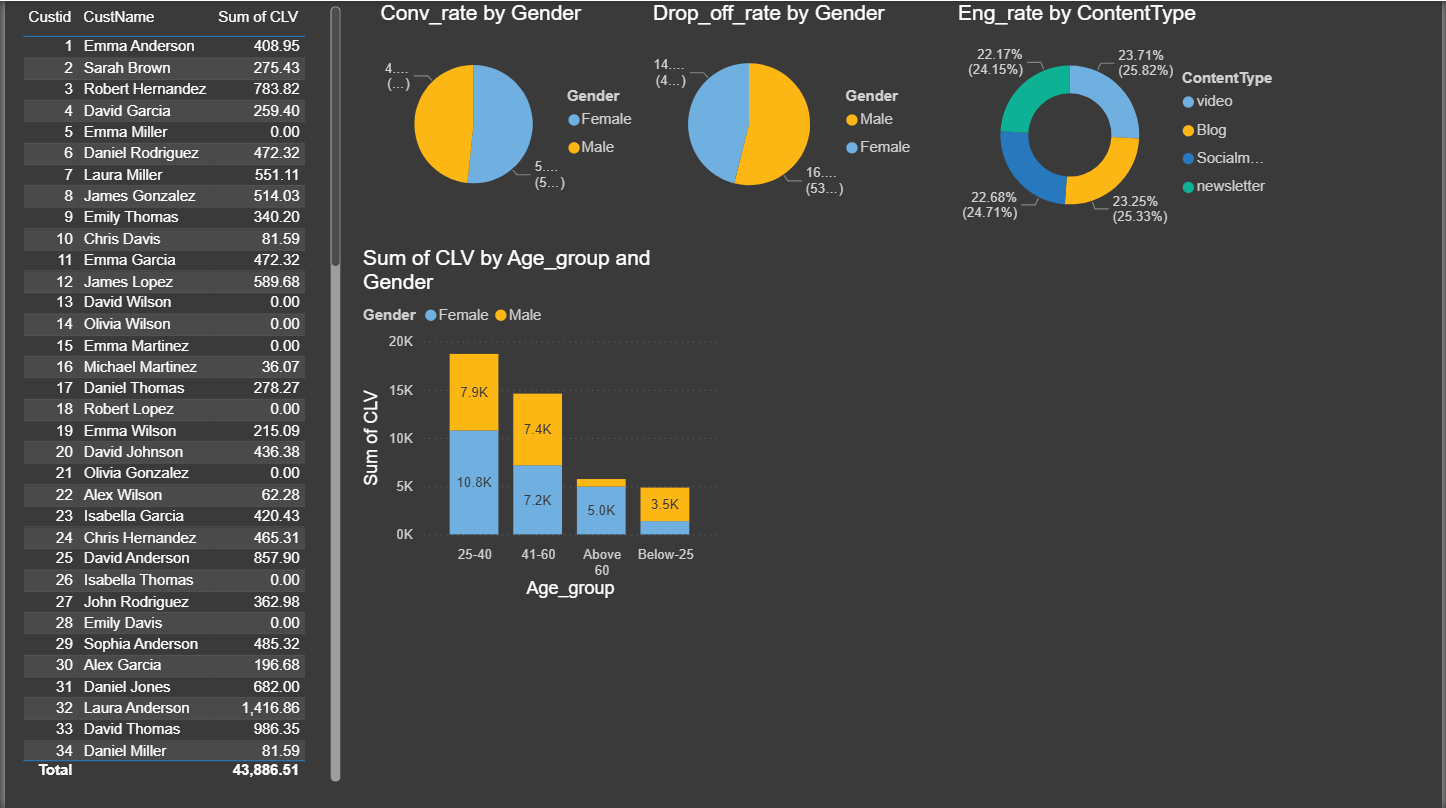

Layout of this report page (visuals, bound fields, positions):
{"tool":"powerbi","page":{"name":"Page 2","canvas":[1280,720],"ordinal":1},"visuals":[{"type":"tableEx","fields":{"Values":["Customers.Custid","Customers.CustName","Sum(Customers.CLV)"]},"box":[9.6,0,293.7,699.8],"z":0},{"type":"pieChart","fields":{"Y":["Countries.Drop_off_rate"],"Category":["Customers.Gender"]},"box":[572.2,0,248.4,199],"z":1000},{"type":"pieChart","fields":{"Category":["Customers.Gender"],"Y":["customer_journey.Conv_rate"]},"box":[329.3,0,242.9,199],"z":2000},{"type":"donutChart","fields":{"Y":["Countries.Eng_rate"],"Category":["Engagement_data.ContentType"]},"box":[843.9,0,307.4,218.2],"z":3000},{"type":"columnChart","fields":{"Category":["Customers.Age_group"],"Y":["Sum(Customers.CLV)"],"Series":["Customers.Gender"]},"box":[314.2,218.2,325.2,318.4],"z":4000}]}

Visuals, with their boxes in screenshot pixels (x1, y1, x2, y2), scaled from the page's 1280x720 canvas onto the 1446x808 screenshot:
tableEx - Customers.Custid x Customers.CustName: <region>11, 0, 343, 785</region>
pieChart - Countries.Drop_off_rate x Customers.Gender: <region>646, 0, 927, 223</region>
pieChart - Customers.Gender x customer_journey.Conv_rate: <region>372, 0, 646, 223</region>
donutChart - Countries.Eng_rate x Engagement_data.ContentType: <region>953, 0, 1301, 245</region>
columnChart - Customers.Age_group x Sum(Customers.CLV): <region>355, 245, 722, 602</region>
